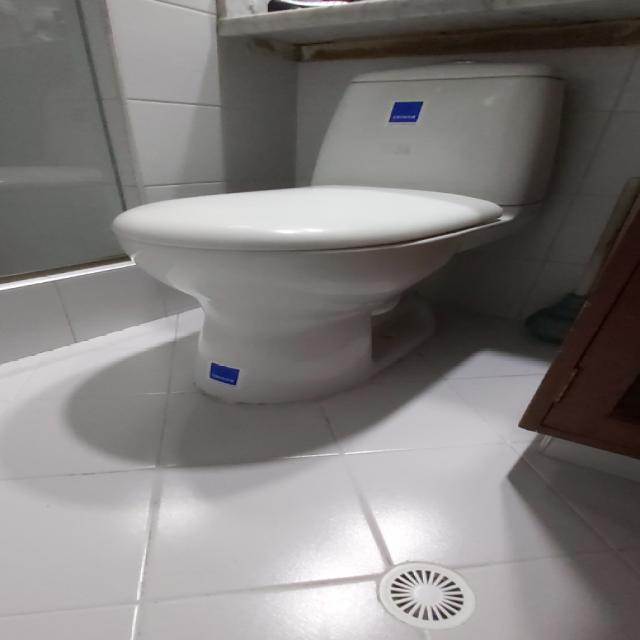toilet: (108, 59, 594, 409)
